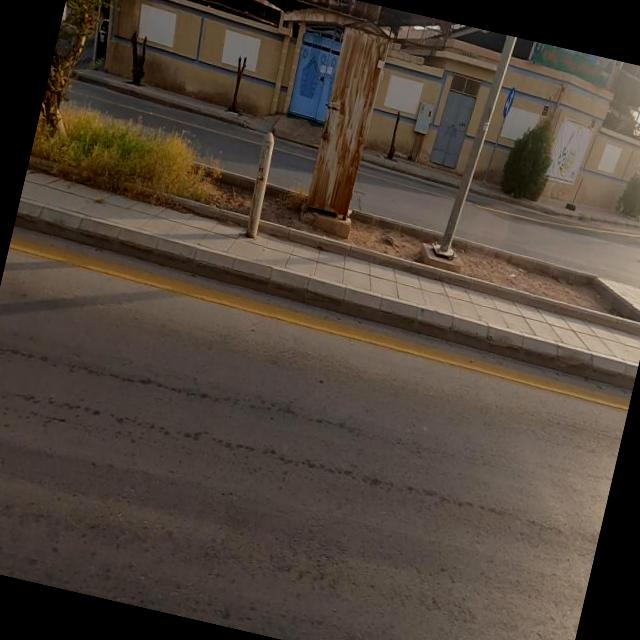debris: (487, 68, 640, 250)
